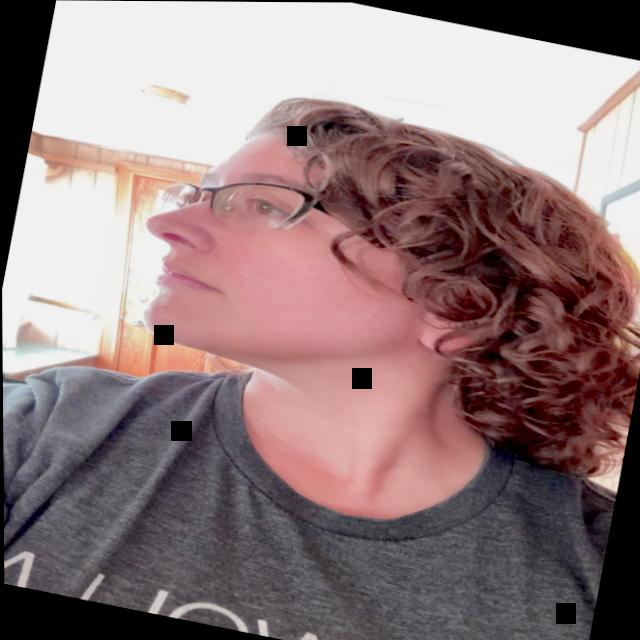NO-Mask: (119, 109, 445, 395)
